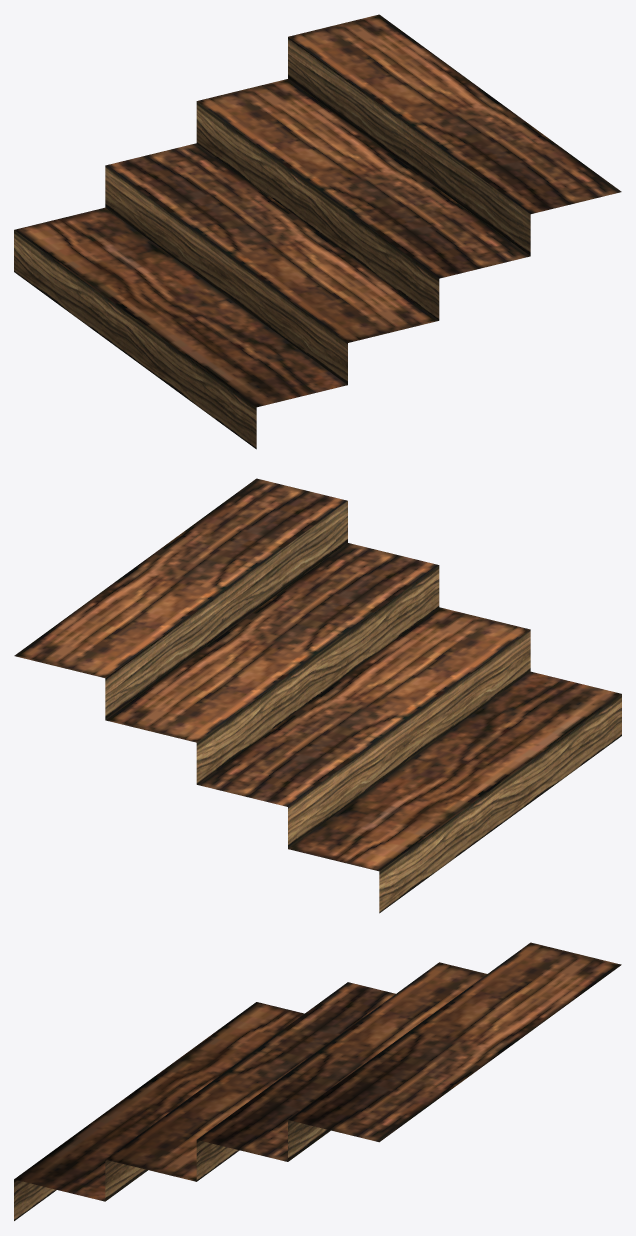
File: LAKETOWN_EXTERIOR_PS_LT_STEP_11.fbx
3 renders of one model, top to bottom at view 1: azimuth 30°, elevation 25°; view 2: azimuth 150°, elevation 25°; view 3: azimuth 330°, elevation 25°, orthographic.
Parts seen in each view (by area): view 1: LAKETOWN_EXTERIOR_PS_LT_STEP_11; view 2: LAKETOWN_EXTERIOR_PS_LT_STEP_11; view 3: LAKETOWN_EXTERIOR_PS_LT_STEP_11.
Boxes of the visible parts, x1,y1,x2,y2 form: LAKETOWN_EXTERIOR_PS_LT_STEP_11: (14,14,621,449); LAKETOWN_EXTERIOR_PS_LT_STEP_11: (14,478,621,913); LAKETOWN_EXTERIOR_PS_LT_STEP_11: (14,942,621,1220).
Size of the model in its own units: 20000 by 8804 by 22995.
Materials: 2 (2 with a texture image).
